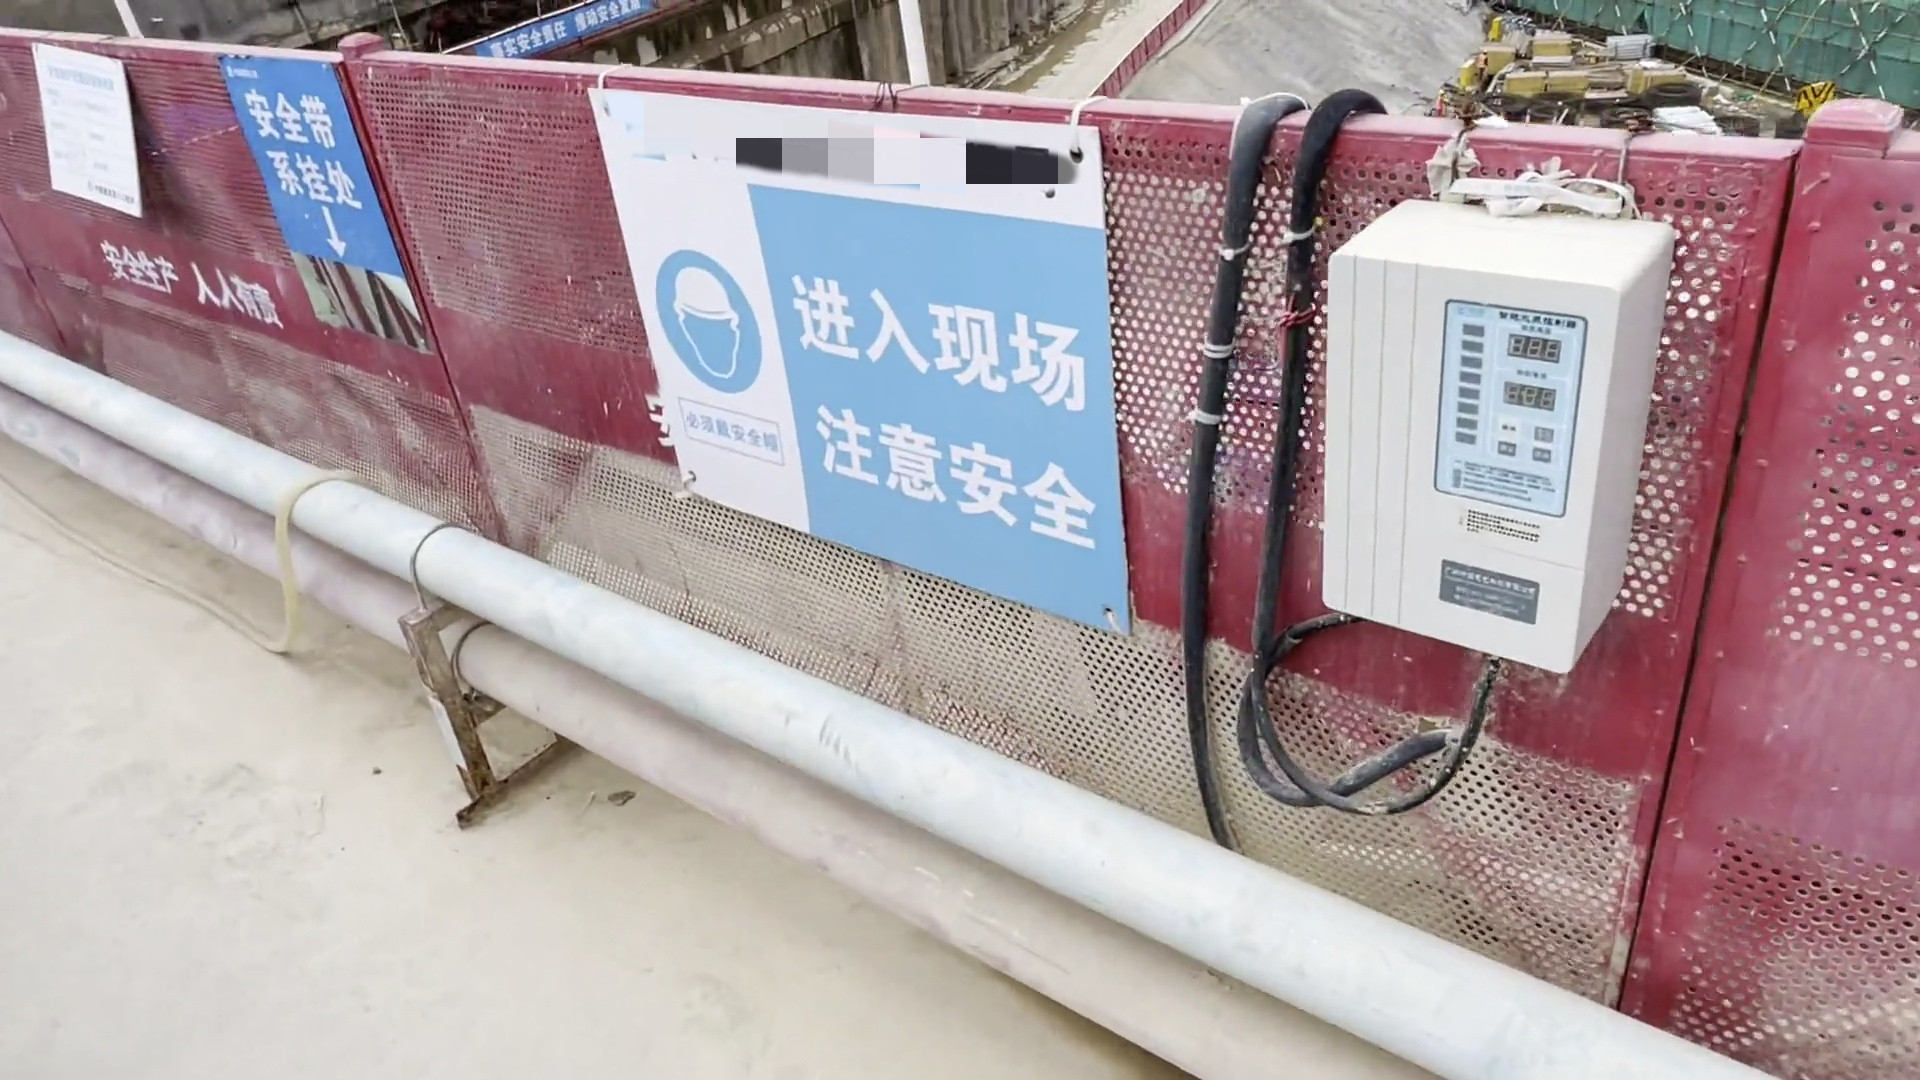ebox: (1280, 171, 1697, 735)
fence: (22, 30, 654, 530)
slogan: (582, 86, 1141, 632), (207, 50, 400, 278), (483, 1, 680, 55)
